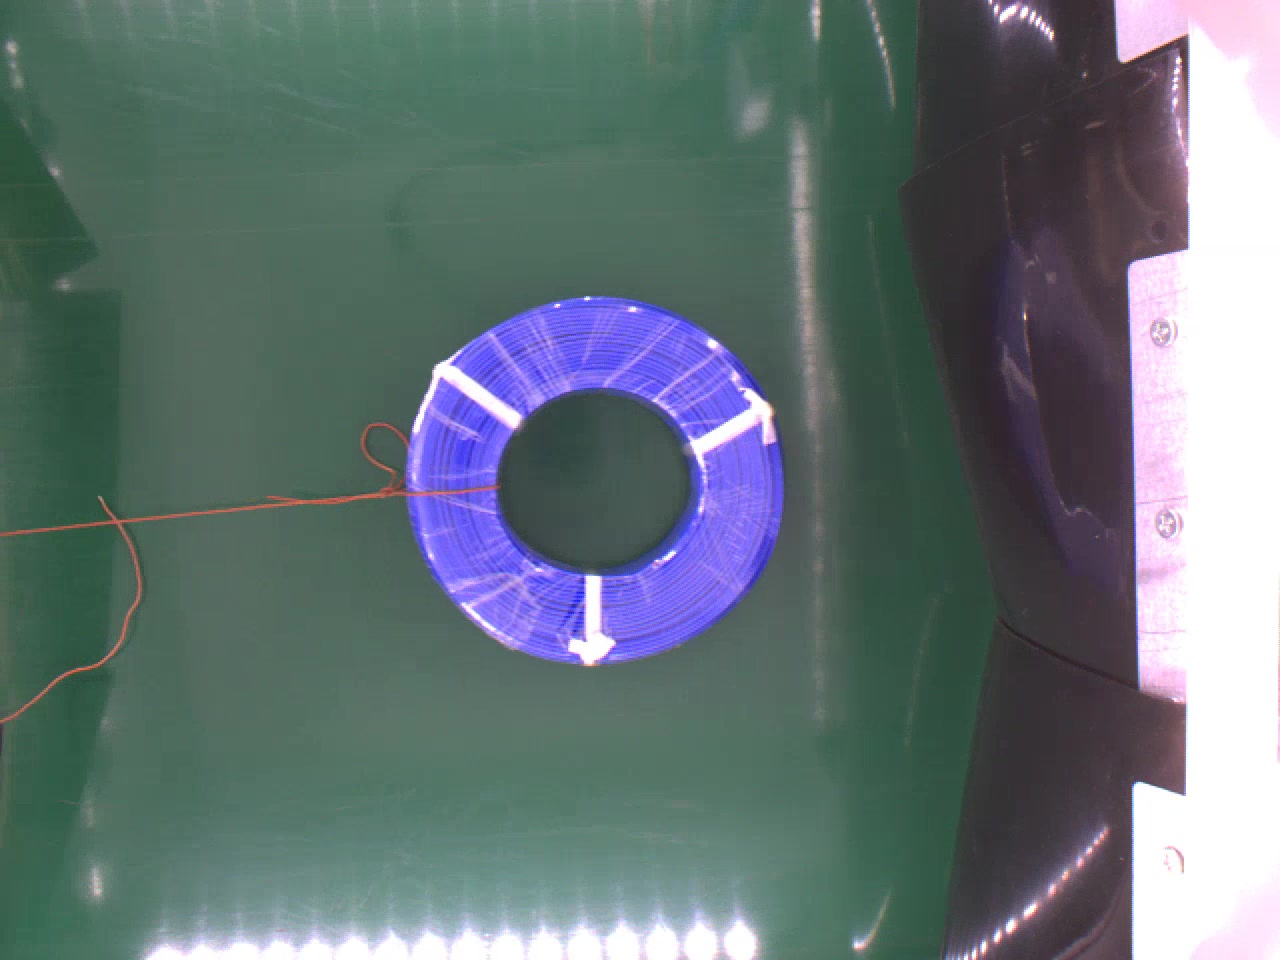blue: (392, 291, 783, 669)
